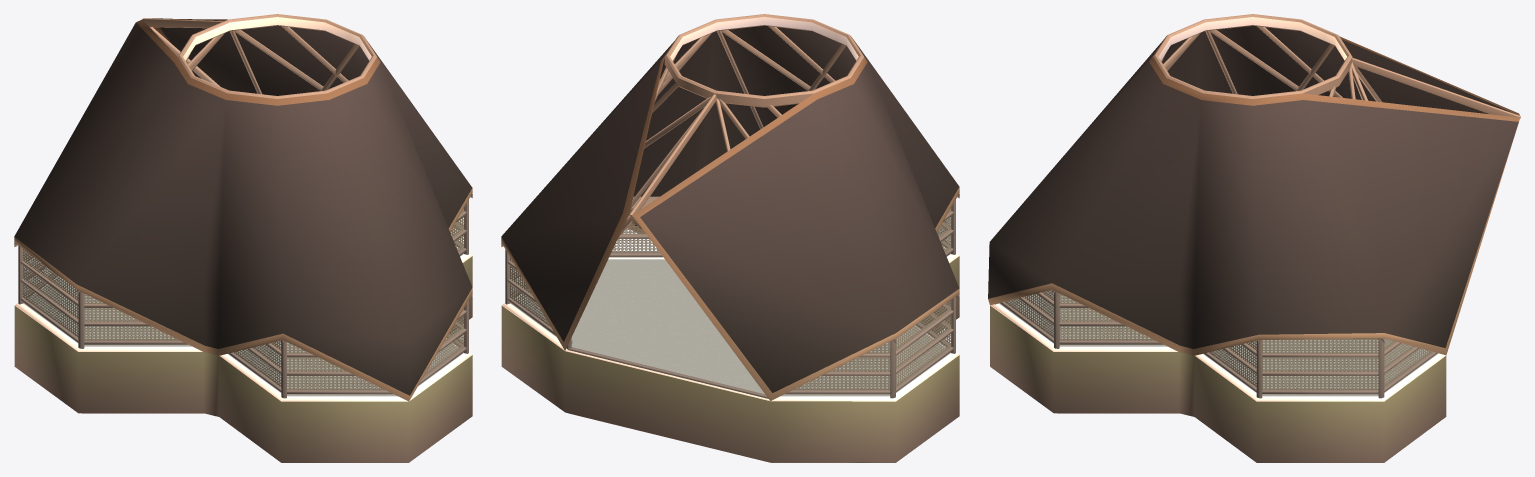
File: dpmarket_bronze.glb
3 renders of one model, left to right at view 1: azimuth 30°, elevation 25°; view 2: azimuth 150°, elevation 25°; view 3: azimuth 270°, elevation 25°, orthographic.
Visible parts, largest first — view 1: tent-fabric.002, tent-base-floor.002, tent-screen.002, tent-horizontals.002, tent-ring.002, tent-structure.002, tent-verticals.002; view 2: tent-fabric.002, tent-base-floor.002, tent-screen.002, tent-structure.002, tent-horizontals.002, tent-ring.002, tent-verticals.002; view 3: tent-fabric.002, tent-base-floor.002, tent-screen.002, tent-horizontals.002, tent-structure.002, tent-ring.002, tent-verticals.002.
Boxes of the visible parts, <box> form: tent-fabric.002: <box>14,18,472,401</box>; tent-base-floor.002: <box>14,246,472,462</box>; tent-screen.002: <box>23,208,464,390</box>; tent-horizontals.002: <box>20,209,466,394</box>; tent-ring.002: <box>178,14,376,98</box>; tent-structure.002: <box>14,18,472,344</box>; tent-verticals.002: <box>18,200,468,398</box>; tent-fabric.002: <box>501,25,959,400</box>; tent-base-floor.002: <box>501,246,959,462</box>; tent-screen.002: <box>510,208,951,390</box>; tent-structure.002: <box>501,26,959,343</box>; tent-horizontals.002: <box>507,196,953,398</box>; tent-ring.002: <box>664,14,863,107</box>; tent-verticals.002: <box>505,200,955,398</box>; tent-fabric.002: <box>988,25,1519,355</box>; tent-base-floor.002: <box>990,290,1446,462</box>; tent-screen.002: <box>1005,290,1432,390</box>; tent-horizontals.002: <box>999,292,1437,394</box>; tent-structure.002: <box>1052,26,1520,344</box>; tent-ring.002: <box>1153,14,1352,98</box>; tent-verticals.002: <box>995,291,1384,398</box>.
Size of what is drawn, in the model's own units: 6.76 by 5.13 by 7.88.
Materials: 5 (5 with a texture image).
